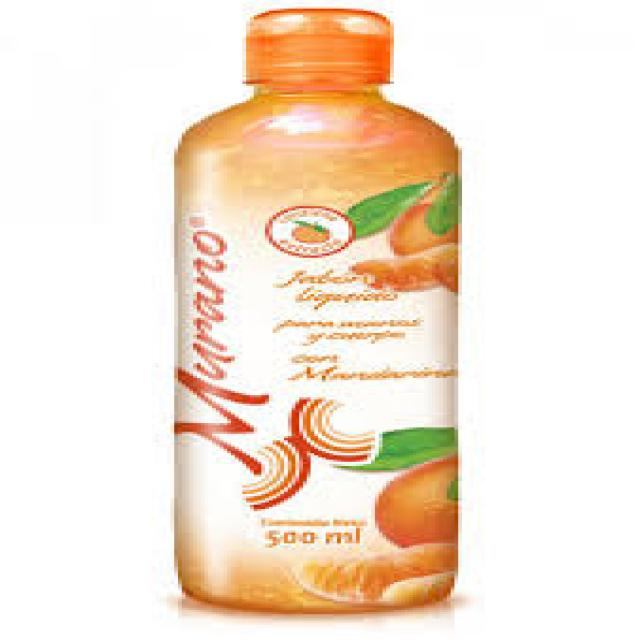Botella: (160, 3, 475, 617)
